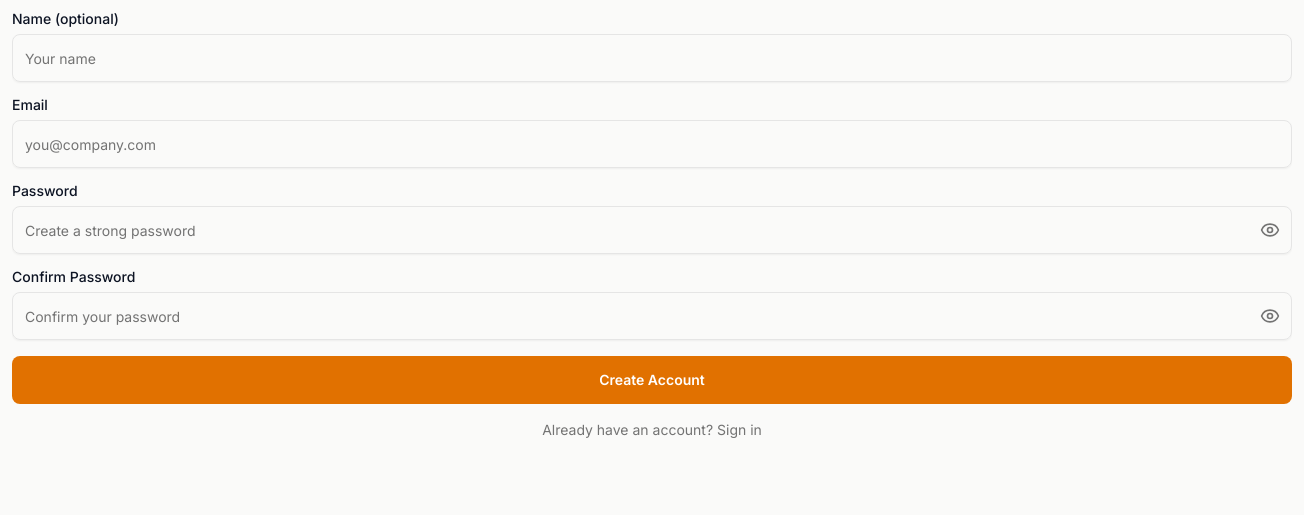
RegisterForm › Inline validation › should show error for mismatched passwords on blur
This screenshot has width=1304, height=515.
Step 1. Type "Password123" into the password field labelled "Password" → [652, 230], box [12,206,1292,254]
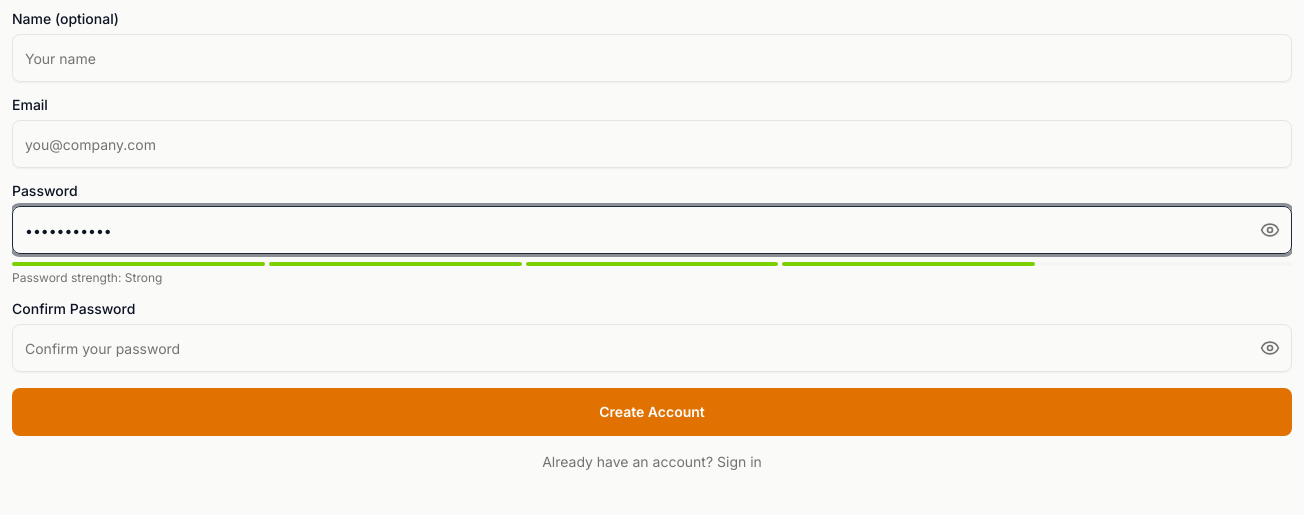
Step 2. Type "Different123" into the password field labelled "Confirm Password" → [652, 348], box [12,324,1292,372]
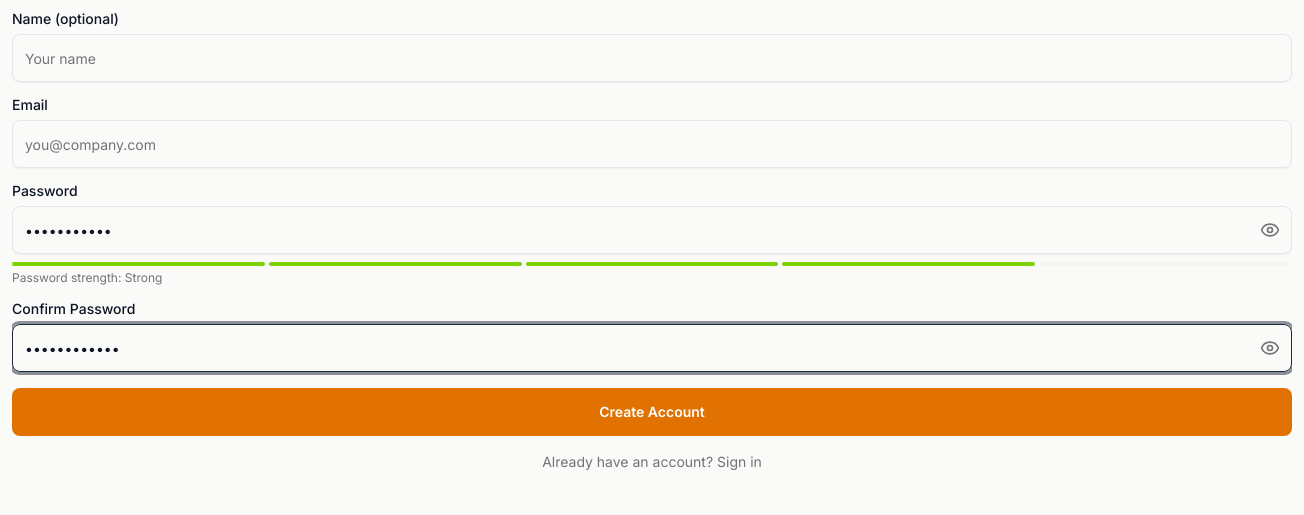
Step 3. Press Tab
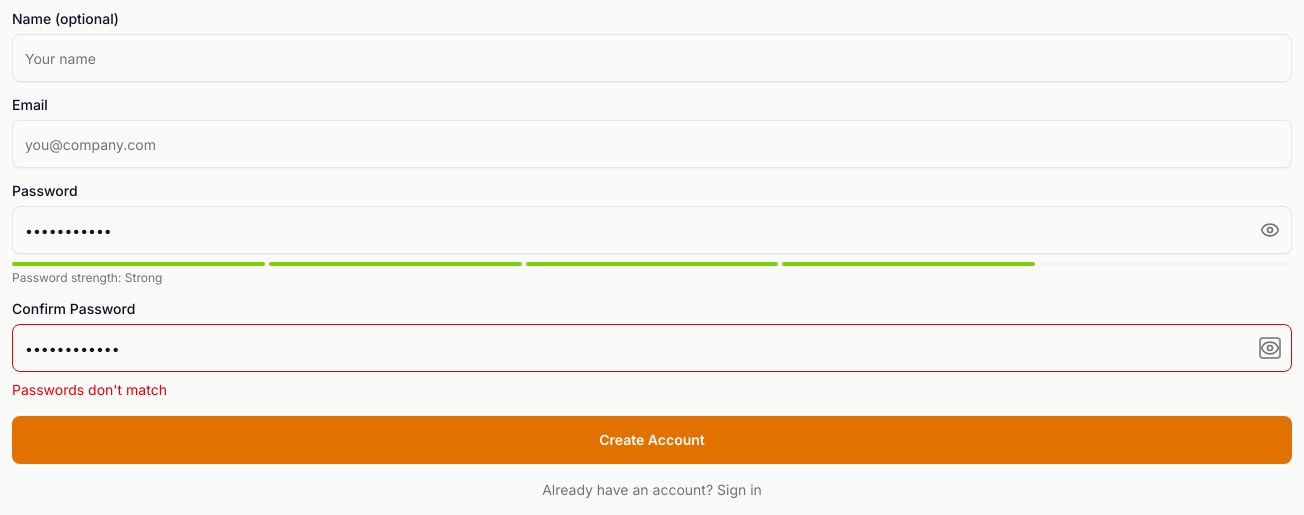
Now the text "Passwords don't match" is shown, box [12,381,167,398]
